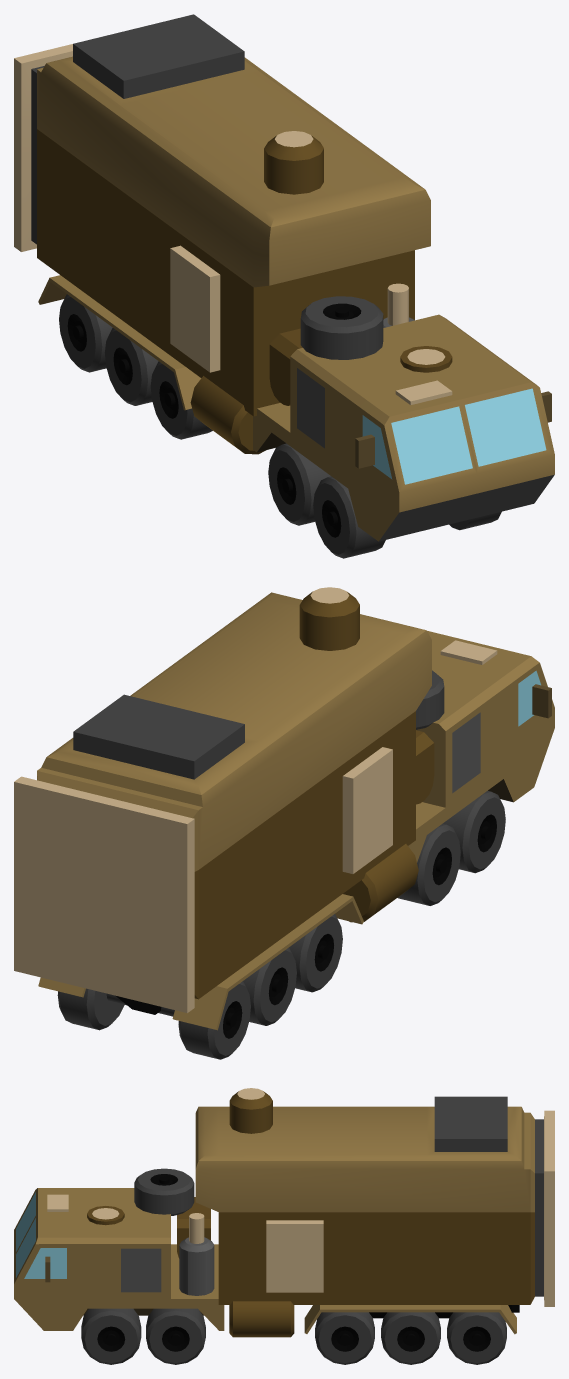
File: Big Truck 4.fbx
The picture shows the model from 3 angles, top to bottom: view 1: azimuth 30°, elevation 25°; view 2: azimuth 150°, elevation 25°; view 3: azimuth 270°, elevation 25°; orthographic projection. The views are drawn at different scales.
Visible parts, largest first — view 1: Cube.521, Cube.515, Cylinder.592, Cylinder.594, Cylinder.589, Cylinder.595, Cylinder.590, Cube.522, Cylinder.591, Cube.518, Cylinder.588, Cylinder.593 (+2 smaller); view 2: Cube.521, Cube.515, Cylinder.592, Cube.522, Cylinder.595, Cylinder.589, Cylinder.590, Cylinder.591, Cube.518, Cylinder.594, Cube.517, Cube.516; view 3: Cube.521, Cube.515, Cylinder.592, Cylinder.589, Cylinder.590, Cylinder.594, Cylinder.591, Cylinder.593, Cube.522, Cylinder.595, Cube.518, Cylinder.588 (+1 smaller).
Part boxes in pixels (x1,y1,x2,y2): Cube.521: (14,14,430,416); Cube.515: (253,314,554,541); Cylinder.592: (59,294,212,439); Cylinder.594: (300,296,383,359); Cylinder.589: (313,476,501,558); Cylinder.595: (264,131,323,194); Cylinder.590: (268,443,330,525); Cube.522: (38,275,201,410); Cylinder.591: (190,376,265,454); Cube.518: (269,328,302,405); Cylinder.588: (400,346,452,372); Cylinder.593: (383,283,414,327); Cube.521: (14,592,431,1012); Cube.515: (408,631,554,862); Cylinder.592: (57,914,342,1059); Cube.522: (38,894,363,1030); Cylinder.595: (299,587,359,650); Cylinder.589: (443,790,505,873); Cylinder.590: (397,823,460,905); Cylinder.591: (343,844,418,922); Cube.518: (416,730,434,804); Cylinder.594: (416,670,444,729); Cube.517: (440,640,497,664); Cube.516: (532,684,551,718); Cube.521: (195,1096,554,1306); Cube.515: (14,1188,224,1330); Cylinder.592: (315,1312,506,1364); Cylinder.589: (81,1308,141,1364); Cylinder.590: (146,1308,205,1364); Cylinder.594: (134,1168,194,1215); Cylinder.591: (229,1301,294,1337); Cylinder.593: (179,1213,214,1295); Cube.522: (304,1305,516,1334); Cylinder.595: (229,1088,272,1133); Cube.518: (177,1197,210,1258); Cylinder.588: (87,1206,124,1225).
Bounding box in the file's own units: 939 × 1541 × 3165.
